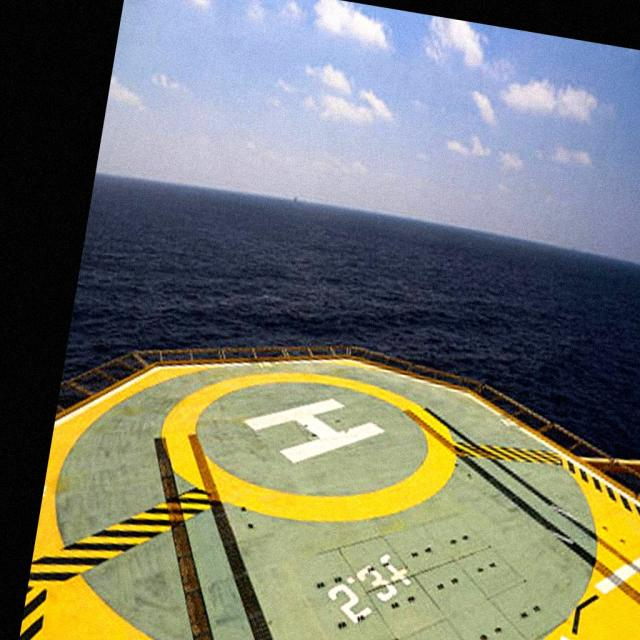helipad: (157, 367, 461, 526)
